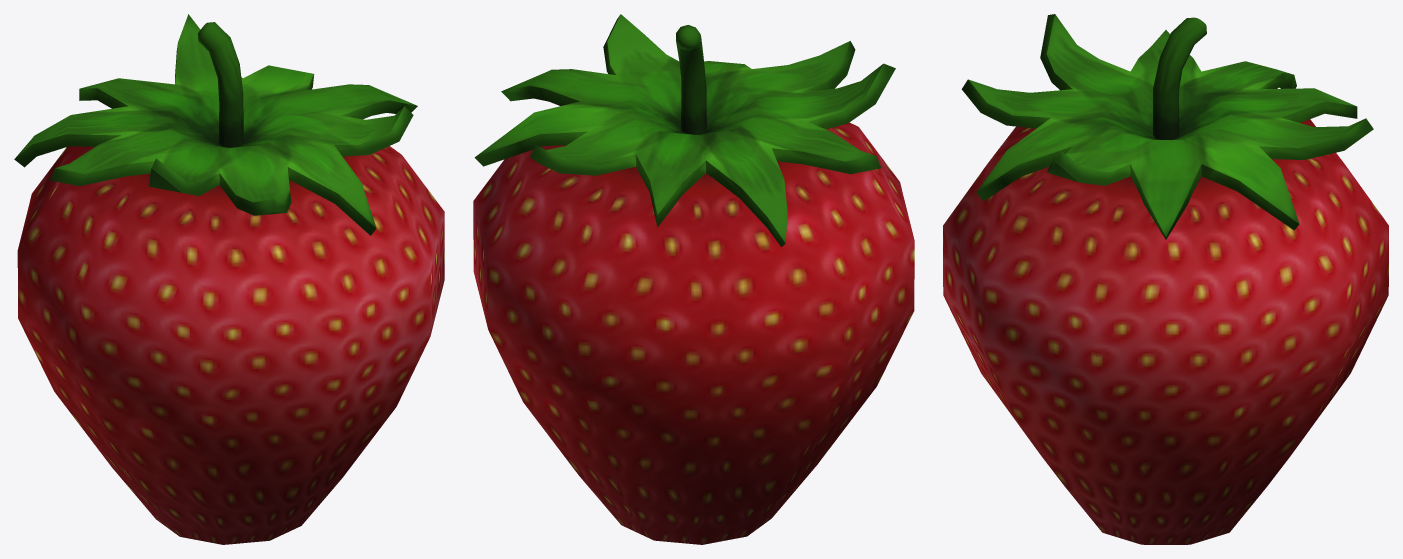
The model's file is Strawberry_Whole_Top.fbx.
3 views of the same model, side by side, from view 1: azimuth 30°, elevation 25°; view 2: azimuth 150°, elevation 25°; view 3: azimuth 270°, elevation 25° (orthographic). The views are drawn at different scales.
Visible parts, largest first — view 1: Strawberry_Whole_Top; view 2: Strawberry_Whole_Top; view 3: Strawberry_Whole_Top.
Part boxes in pixels (box(x1,y1,x2,y2)): Strawberry_Whole_Top: box(14, 14, 444, 544); Strawberry_Whole_Top: box(473, 14, 914, 544); Strawberry_Whole_Top: box(943, 14, 1388, 544).
Bounding box in the file's own units: 17.59 × 23.37 × 18.04.
